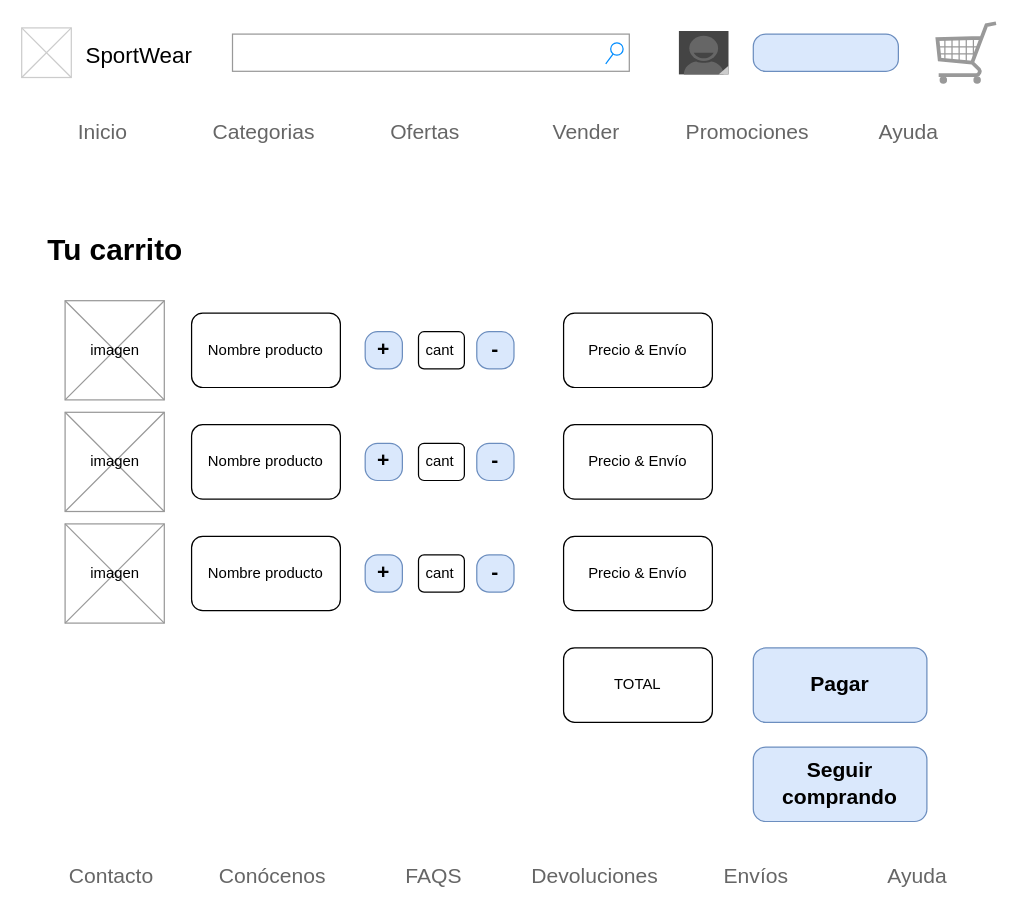
This 1019x918 diagram has some shape labels left out. Each missing label, with the centre of its shape:
"Login" belongs at pixel 825 52.
"Logo" belongs at pixel 45 52.
"¿Qué estás buscando?" belongs at pixel 430 52.
